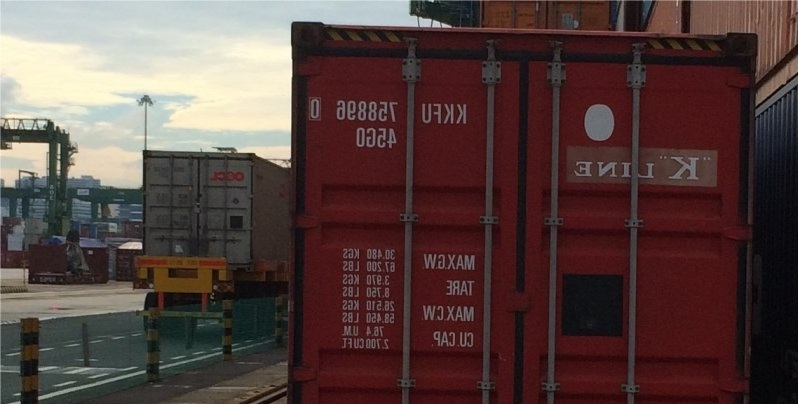container_door: (283, 19, 754, 404)
